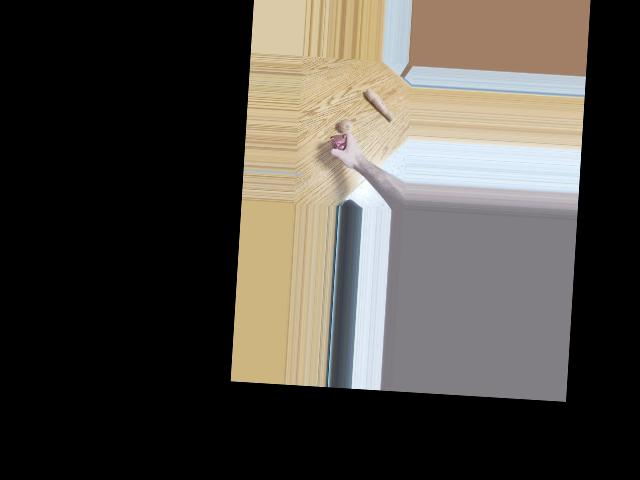onion: (337, 117, 354, 136)
